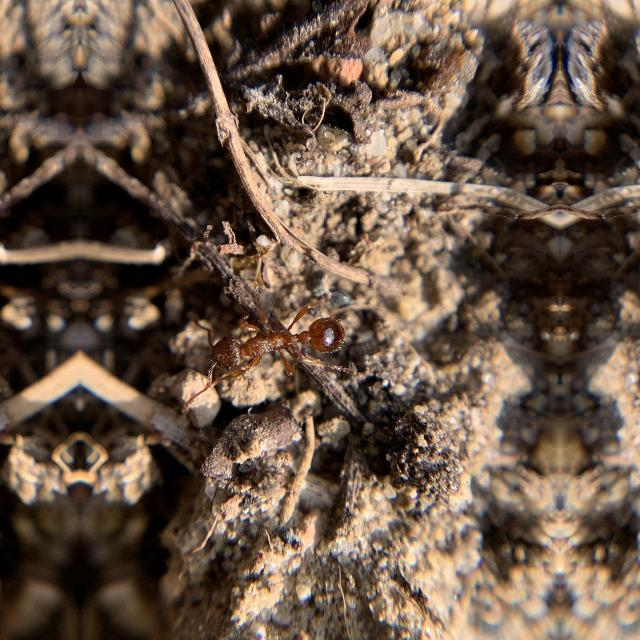Myrmica: (188, 278, 368, 414)
